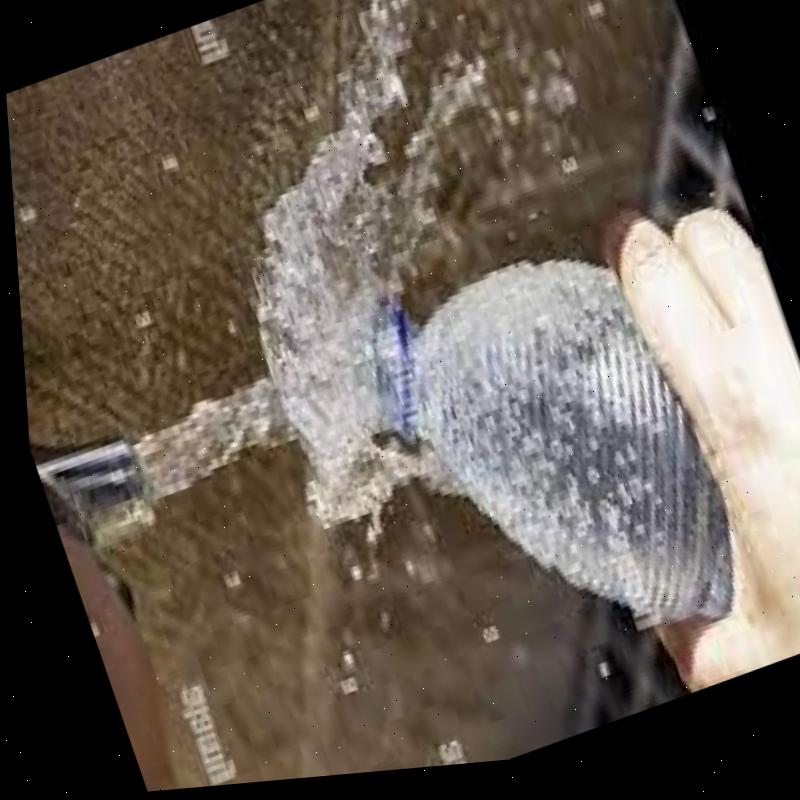botella: (329, 218, 750, 725)
